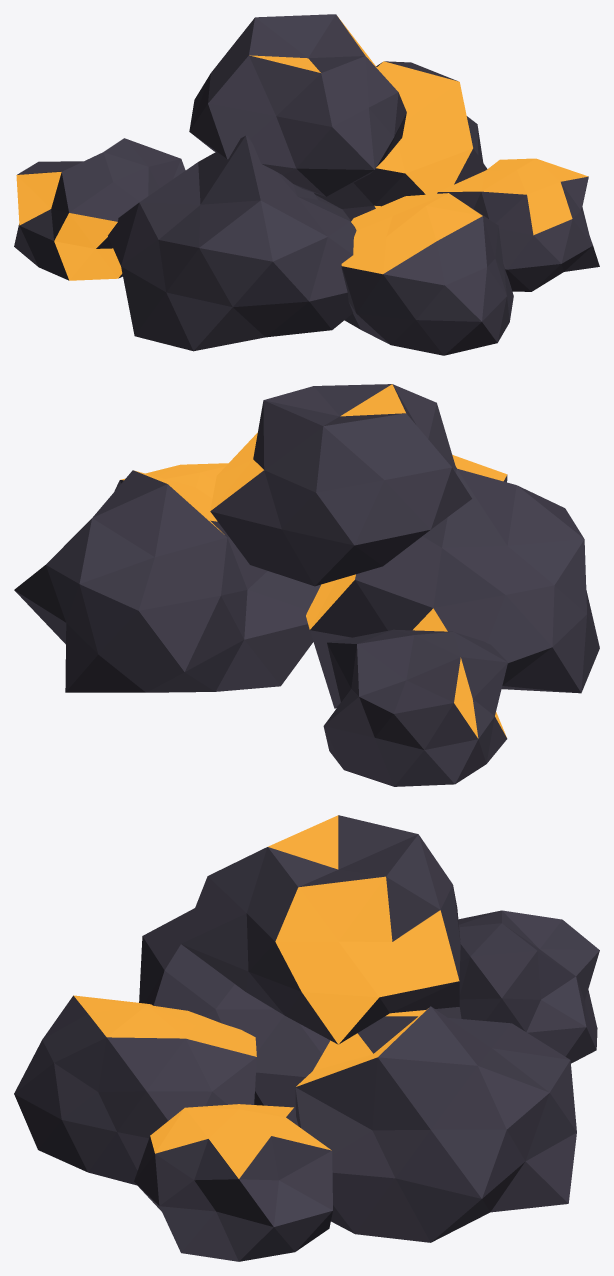
Rendered from Ore_Pile.fbx.
The picture shows the model from 3 angles, top to bottom: view 1: azimuth 30°, elevation 25°; view 2: azimuth 150°, elevation 25°; view 3: azimuth 270°, elevation 25°; orthographic projection. The views are drawn at different scales.
Parts seen in each view (by area): view 1: Pile; view 2: Pile; view 3: Pile.
Part boxes in pixels (box(x1,y1,x2,y2)): Pile: box(14, 14, 599, 355); Pile: box(14, 384, 599, 786); Pile: box(14, 815, 599, 1261).
Bounding box in the file's own units: 0.8669 × 0.8247 × 0.4335.
